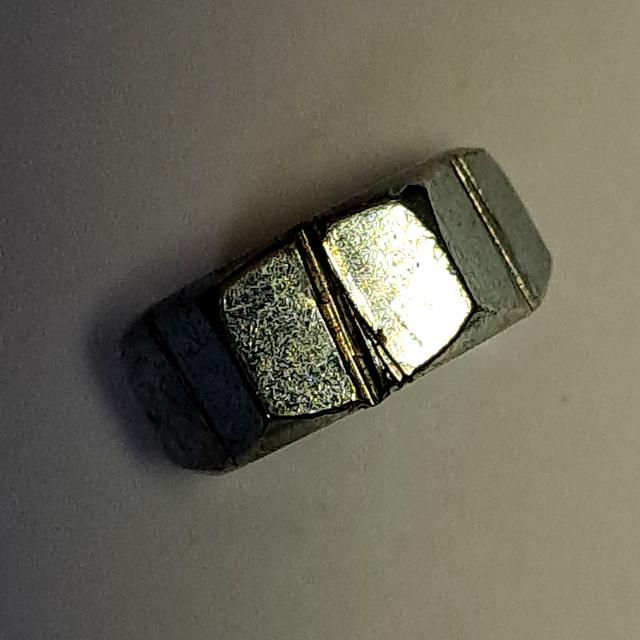Side_Scratches: (102, 130, 566, 491)
